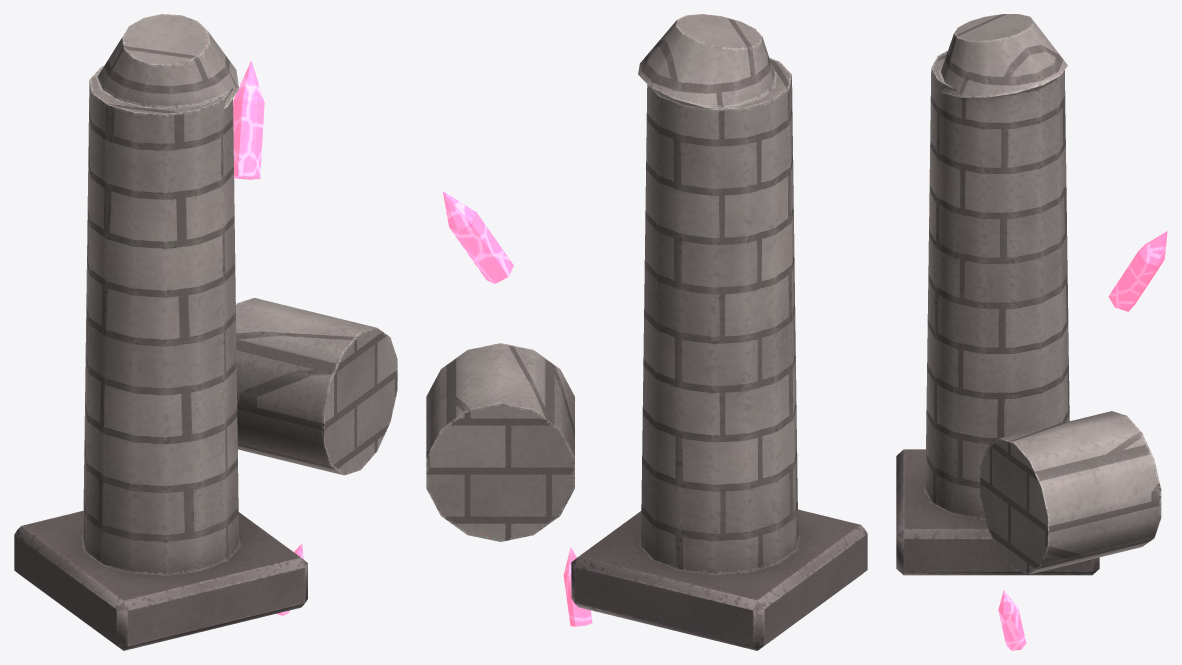
Rendered from coluna_rachada.glb.
3 views of the same model, side by side, from view 1: azimuth 30°, elevation 25°; view 2: azimuth 150°, elevation 25°; view 3: azimuth 270°, elevation 25° (orthographic). The views are drawn at different scales.
Parts seen in each view (by area): view 1: coluna_rachada; view 2: coluna_rachada; view 3: coluna_rachada.
Part boxes in pixels (x1,y1,x2,y2): coluna_rachada: (14,14,397,650); coluna_rachada: (426,14,867,650); coluna_rachada: (896,14,1167,650).
Size of the model in its own units: 2.63 by 4.34 by 1.87.
Materials: 1 (1 with a texture image).
